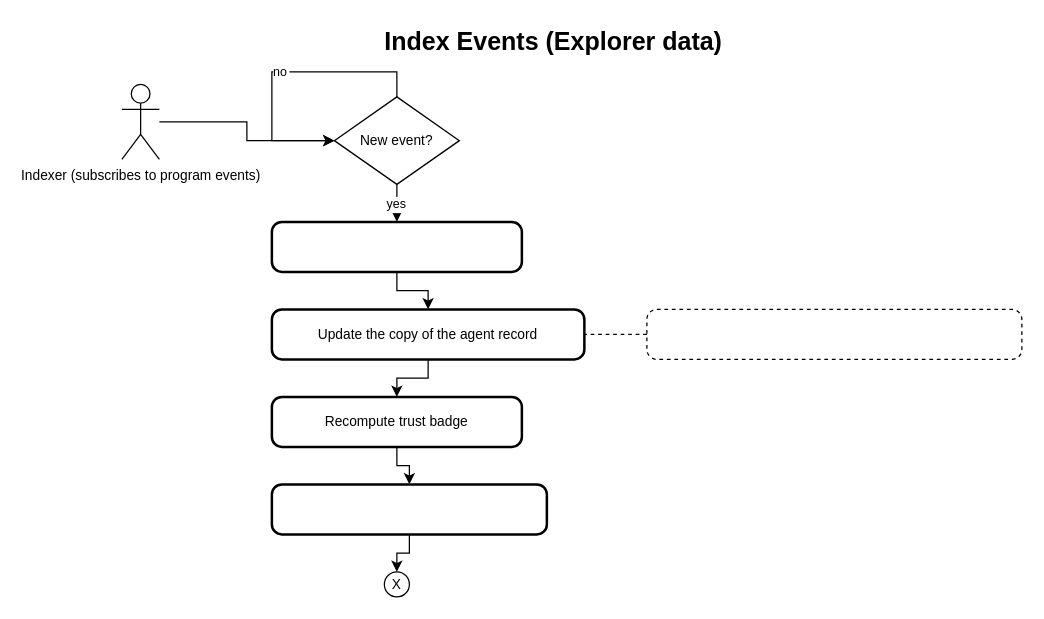
The diagram is 1044 pixels wide and 619 high, and some of its shapes have lost their labels. The shapes that lost their labels are listed below. From the top down, each one's centre as x and y in pixels, then its label:
the point at 396,246: Store event in history table
the point at 834,333: Explorer pages read this data: history, badges, search, wallet view, stats
the point at 409,508: Clear the resolver cache entry
